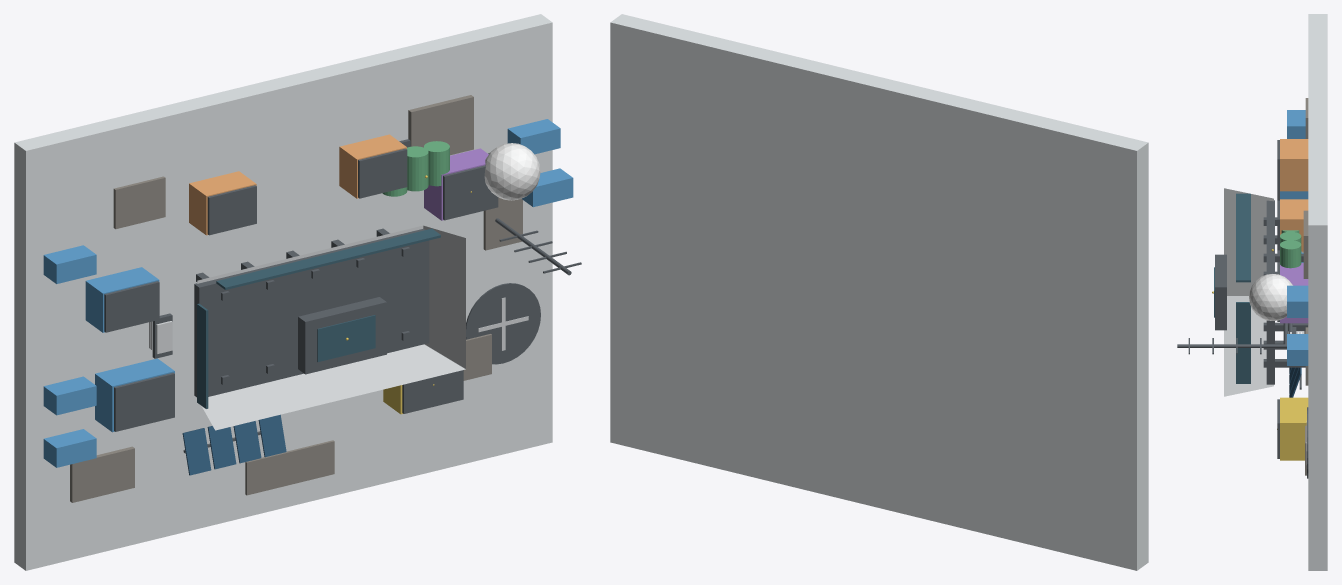
File: bharati.glb
3 renders of one model, left to right at view 1: azimuth 30°, elevation 25°; view 2: azimuth 150°, elevation 25°; view 3: azimuth 270°, elevation 25°, orthographic. The views are drawn at different scales.
Parts seen in each view (by area): view 1: Antarctic_Terrain, Main_Lower_Service_Band, Main_Building, Helipad_Base, Raised_Roof, Rock_Outcrop_5, Rock_Outcrop_4, Laboratory_Module_1_Roof, Rock_Outcrop_1, Communication_Radome, Main_Windows_North, Laboratory_Module_2_Roof (+25 smaller); view 2: Antarctic_Terrain; view 3: Antarctic_Terrain, Main_Building, Power_Facility, Communication_Radome, Utility_Module_2, Main_Windows_North, Main_Lower_Service_Band, Main_Windows_East, Raised_Roof, Utility_Module_1, Shipping_Container_4, Shipping_Container_5 (+7 smaller).
Boxes of the visible parts, x1,y1,x2,y2 form: Antarctic_Terrain: (14, 14, 552, 570); Main_Lower_Service_Band: (194, 229, 429, 397); Main_Building: (197, 225, 465, 430); Helipad_Base: (466, 283, 540, 364); Raised_Roof: (298, 297, 386, 374); Rock_Outcrop_5: (245, 440, 334, 495); Rock_Outcrop_4: (408, 95, 473, 155); Laboratory_Module_1_Roof: (114, 372, 174, 431); Rock_Outcrop_1: (70, 446, 134, 502); Communication_Radome: (484, 143, 540, 200); Main_Windows_North: (216, 228, 440, 289); Laboratory_Module_2_Roof: (104, 281, 159, 332); Antarctic_Terrain: (610, 14, 1148, 570); Antarctic_Terrain: (1308, 14, 1327, 570); Main_Building: (1224, 188, 1273, 396); Power_Facility: (1280, 397, 1308, 460); Communication_Radome: (1249, 274, 1292, 320); Utility_Module_2: (1280, 139, 1308, 191); Main_Windows_North: (1236, 193, 1250, 282); Main_Lower_Service_Band: (1266, 200, 1274, 384); Main_Windows_East: (1236, 302, 1250, 383); Raised_Roof: (1215, 254, 1226, 330); Utility_Module_1: (1280, 199, 1308, 251); Shipping_Container_4: (1287, 285, 1308, 317); Shipping_Container_5: (1287, 334, 1308, 365).
Bounding box in the file's own units: 42.6 × 32 × 12.6.
